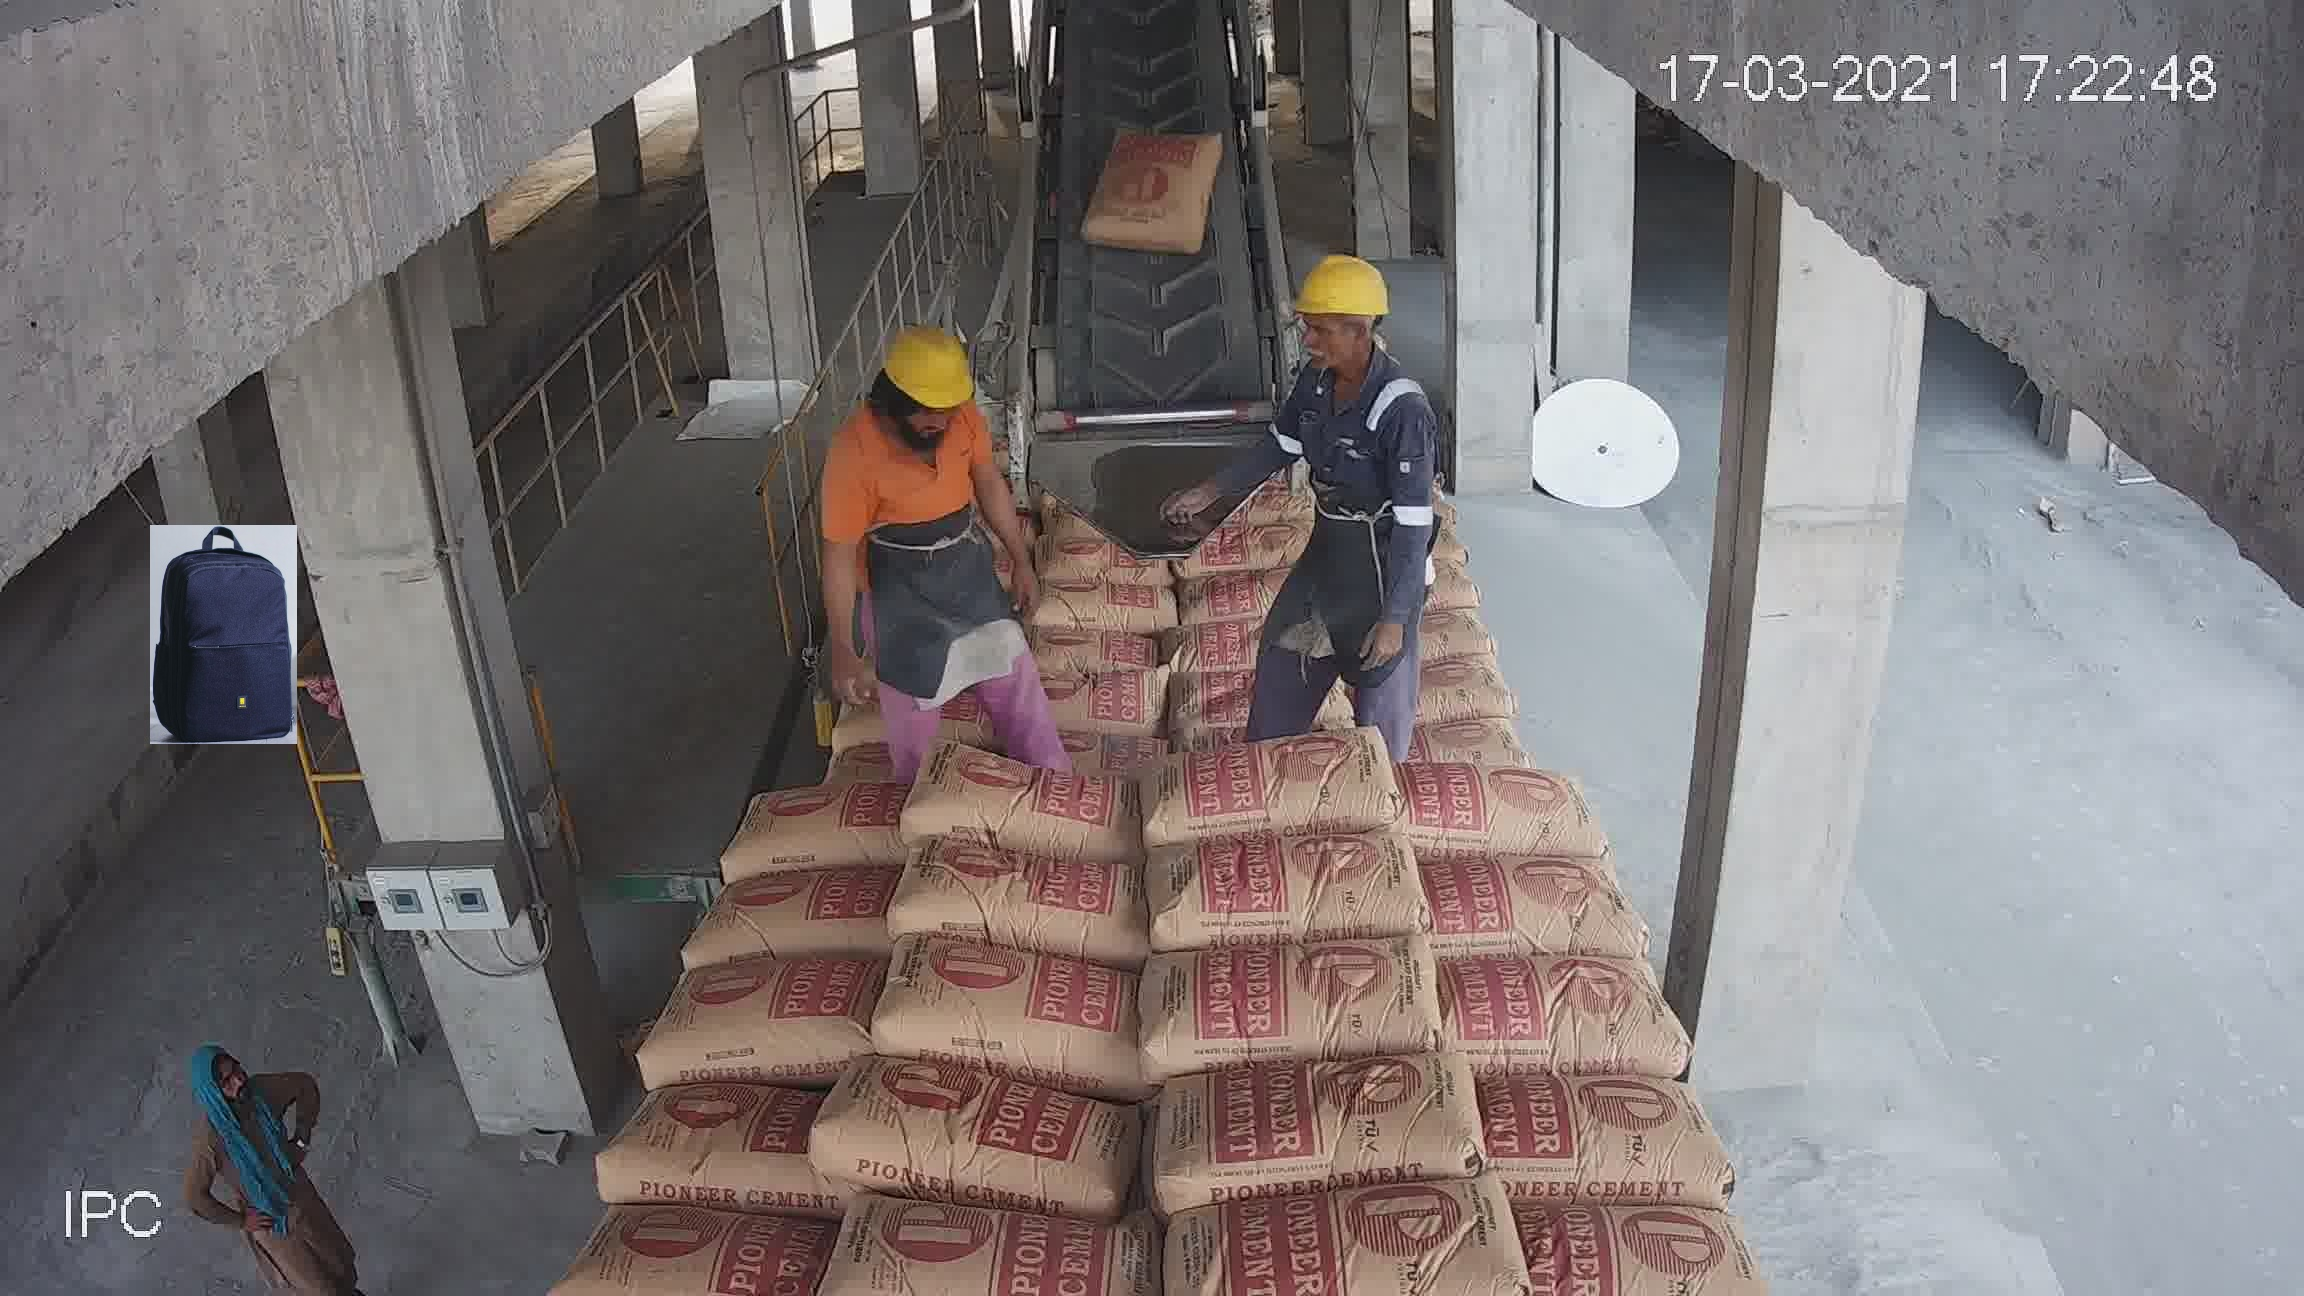bag: (1084, 354, 1215, 476), (1090, 44, 1203, 142)
bag_h: (1147, 1055, 1480, 1222), (847, 964, 1161, 1090), (1176, 1180, 1519, 1296), (1146, 942, 1434, 1079), (1131, 842, 1426, 968), (831, 1086, 1146, 1201), (571, 1078, 820, 1217), (641, 953, 870, 1084), (652, 864, 904, 981), (1432, 945, 1662, 1071), (788, 1204, 1154, 1283), (1388, 831, 1625, 953), (1468, 1079, 1714, 1196), (1165, 563, 1389, 679), (709, 767, 916, 892), (1511, 1195, 1753, 1296), (1138, 756, 1385, 851), (888, 763, 1165, 845), (892, 859, 1117, 954), (725, 699, 929, 802), (559, 1209, 824, 1285), (1158, 671, 1367, 766), (1400, 764, 1598, 855), (760, 623, 956, 714), (949, 612, 1166, 688), (934, 688, 1147, 758), (1391, 687, 1556, 755), (1370, 619, 1540, 684), (1355, 481, 1456, 540), (1353, 525, 1483, 568), (1366, 559, 1468, 612), (1342, 411, 1431, 454), (1347, 451, 1434, 489)
belt: (1032, 24, 1275, 424)
